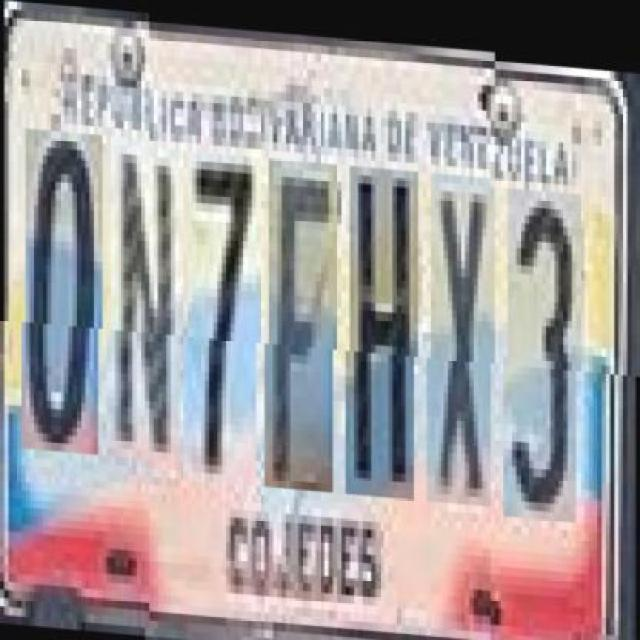3: (507, 170, 581, 504)
7: (187, 148, 261, 482)
f: (268, 153, 338, 487)
h: (350, 159, 418, 493)
n: (110, 142, 184, 467)
o: (26, 137, 102, 461)
x: (431, 164, 495, 498)
